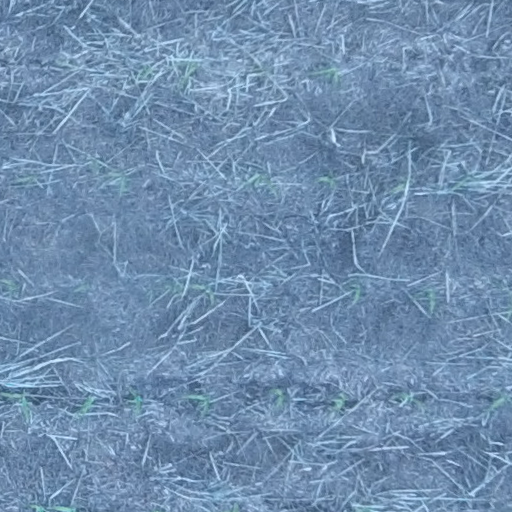planta: (1, 392, 29, 419), (308, 66, 341, 84), (177, 61, 198, 89), (413, 288, 437, 312), (186, 392, 210, 416), (245, 173, 276, 191), (107, 171, 129, 192), (191, 283, 216, 301), (488, 391, 511, 410), (396, 392, 424, 407), (75, 396, 95, 416), (349, 281, 362, 307), (269, 389, 286, 407), (130, 389, 142, 414), (317, 175, 336, 187), (453, 177, 469, 189)
